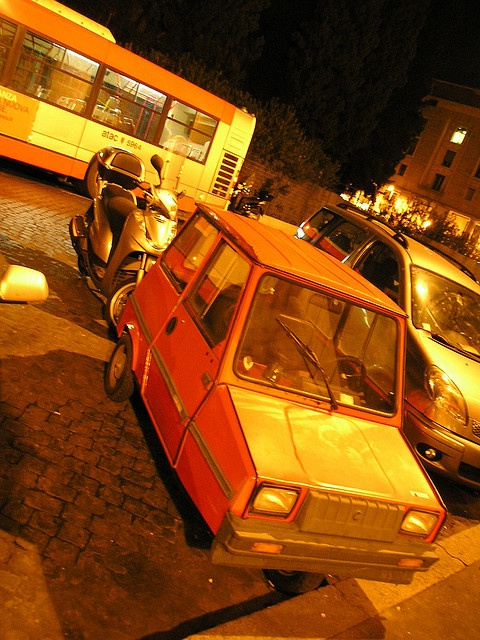non-vehicle: (70, 149, 181, 317), (227, 191, 274, 220)
